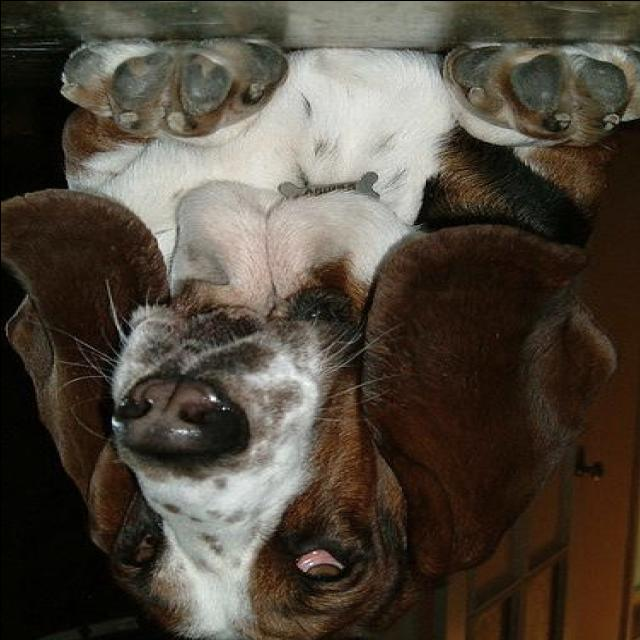basset: (3, 37, 640, 640)
